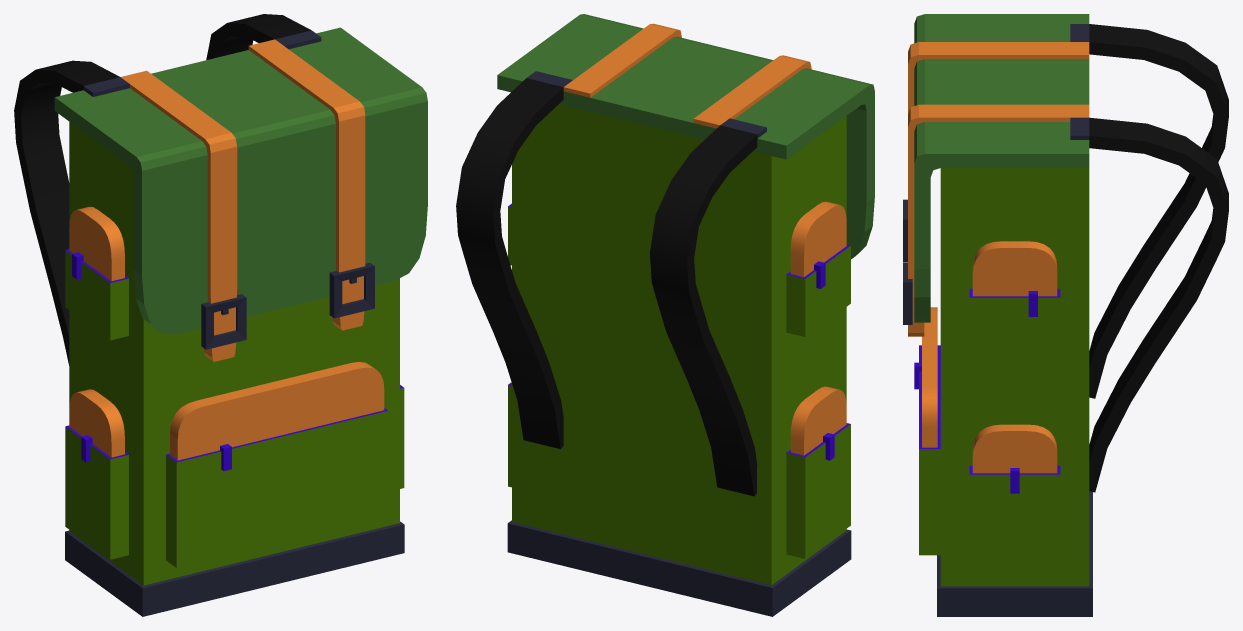
The model's file is Sac.FBX.
3 views of the same model, side by side, from view 1: azimuth 30°, elevation 25°; view 2: azimuth 150°, elevation 25°; view 3: azimuth 270°, elevation 25° (orthographic).
Visible parts, largest first — view 1: Box001, Box008, Line003, Box012, Box010, Box009, Box005, Box003, Box017, Box018; view 2: Box001, Line003, Box008, Box005, Box009, Box010, Box003; view 3: Box001, Box008, Line003, Box009, Box014, Box013, Box010, Box012, Box017.
Part boxes in pixels (x1,y1,x2,y2): Box001: (65, 122, 404, 616); Box008: (54, 27, 427, 334); Line003: (14, 14, 321, 365); Box012: (170, 362, 384, 460); Box010: (121, 70, 237, 361); Box009: (248, 39, 365, 330); Box005: (69, 206, 124, 281); Box003: (69, 389, 124, 457); Box017: (329, 262, 374, 318); Box018: (201, 294, 246, 349); Box001: (507, 104, 851, 616); Line003: (456, 71, 766, 496); Box008: (497, 14, 874, 259); Box005: (790, 201, 846, 276); Box009: (563, 23, 681, 97); Box010: (693, 55, 811, 128); Box003: (790, 386, 846, 455); Box001: (919, 167, 1092, 616); Box008: (914, 14, 1089, 322); Line003: (1070, 24, 1228, 492); Box009: (908, 104, 1089, 336); Box014: (972, 241, 1057, 296); Box013: (972, 424, 1057, 473); Box010: (908, 42, 1089, 113); Box012: (922, 307, 937, 447); Box017: (903, 262, 912, 324).
Bounding box in the file's own units: 70.73 × 105 × 65.77.
